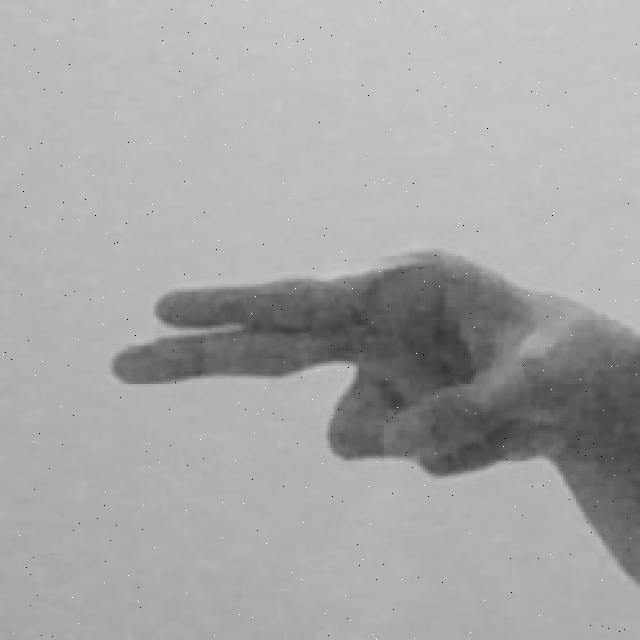H: (100, 241, 640, 599)
